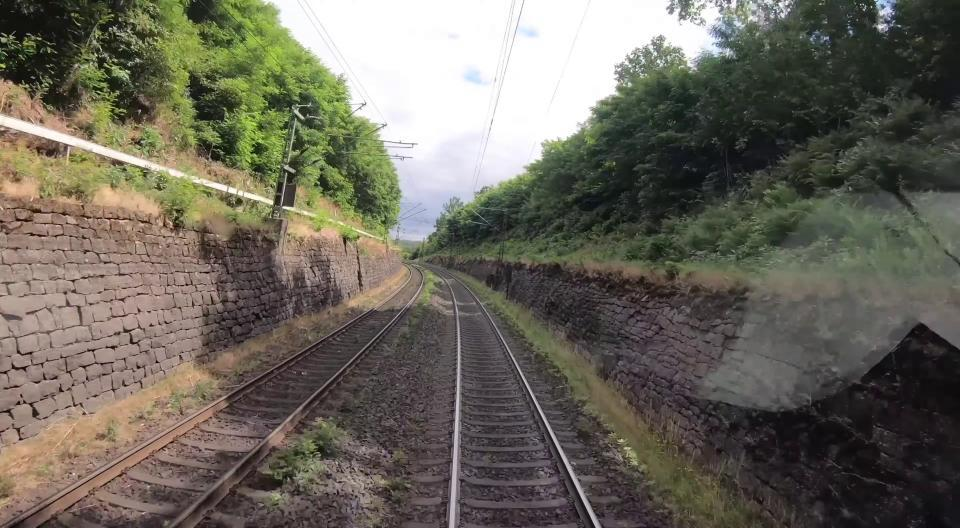Plant: (0, 267, 408, 494), (466, 279, 784, 528), (264, 422, 340, 485), (408, 268, 436, 328)
